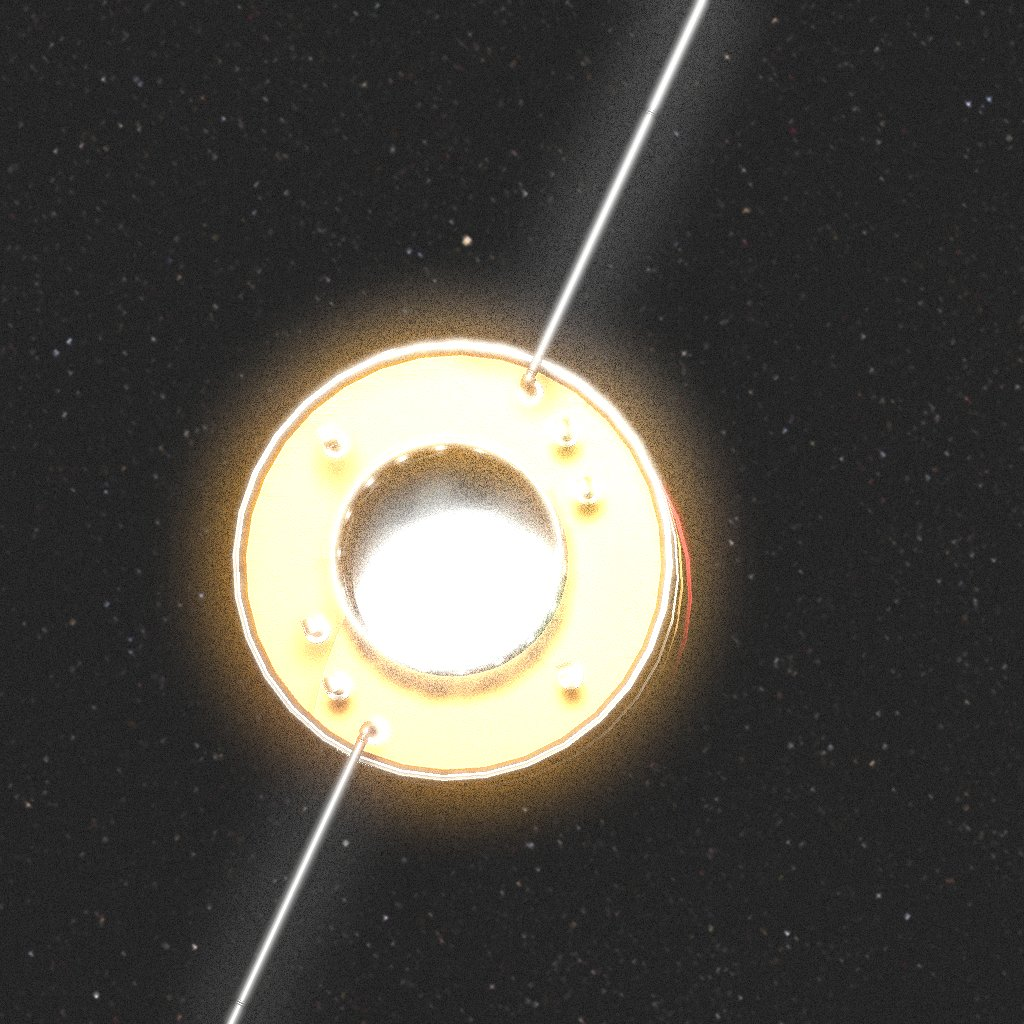double_star: (226, 0, 709, 1024)
